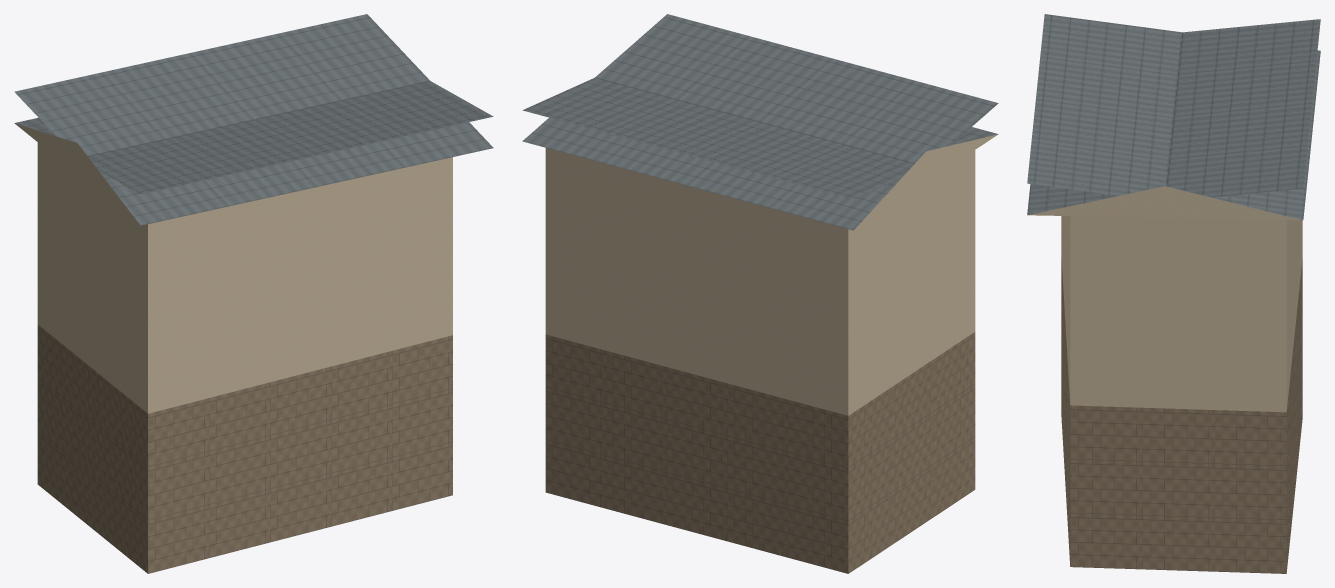
The model's file is bld_c-16_-5_710.gltf.
The picture shows the model from 3 angles, left to right: view 1: azimuth 30°, elevation 25°; view 2: azimuth 150°, elevation 25°; view 3: azimuth 270°, elevation 25°; orthographic projection. The views are drawn at different scales.
Parts seen in each view (by area): view 1: bld_c-16_-5_710; view 2: bld_c-16_-5_710; view 3: bld_c-16_-5_710.
Boxes of the visible parts, x1,y1,x2,y2 form: bld_c-16_-5_710: (14, 14, 493, 573); bld_c-16_-5_710: (522, 14, 998, 573); bld_c-16_-5_710: (1027, 14, 1320, 573).
Bounding box in the file's own units: 11.82 × 12.4 × 8.4.
4 materials, 4 textured.
